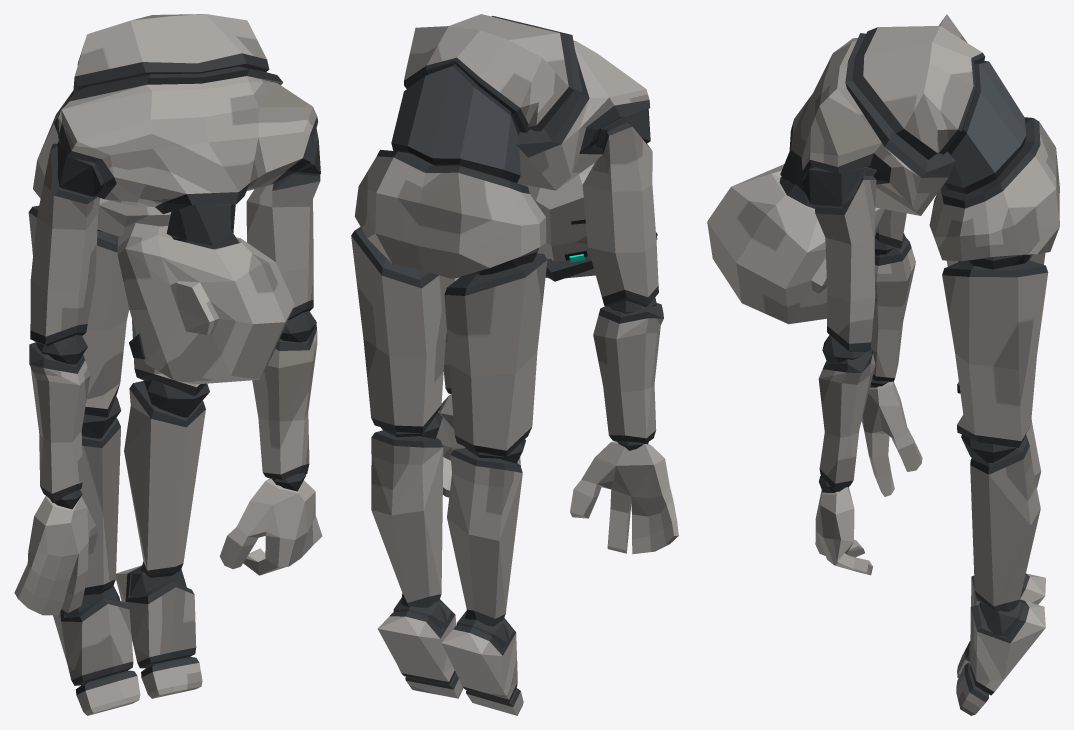
Rendered from cyber_SM_Prop_Robot_Posed_06.gltf.
The picture shows the model from 3 angles, left to right: view 1: azimuth 30°, elevation 25°; view 2: azimuth 150°, elevation 25°; view 3: azimuth 270°, elevation 25°; orthographic projection. The views are drawn at different scales.
Visible parts, largest first — view 1: SM_Prop_Robot_Posed_06; view 2: SM_Prop_Robot_Posed_06; view 3: SM_Prop_Robot_Posed_06.
Boxes of the visible parts, x1,y1,x2,y2 form: SM_Prop_Robot_Posed_06: (14,14,322,715); SM_Prop_Robot_Posed_06: (351,14,678,715); SM_Prop_Robot_Posed_06: (707,14,1059,715).
Bounding box in the file's own units: 0.551 × 1.3 × 0.6341.
Materials: 1 (1 with a texture image).
